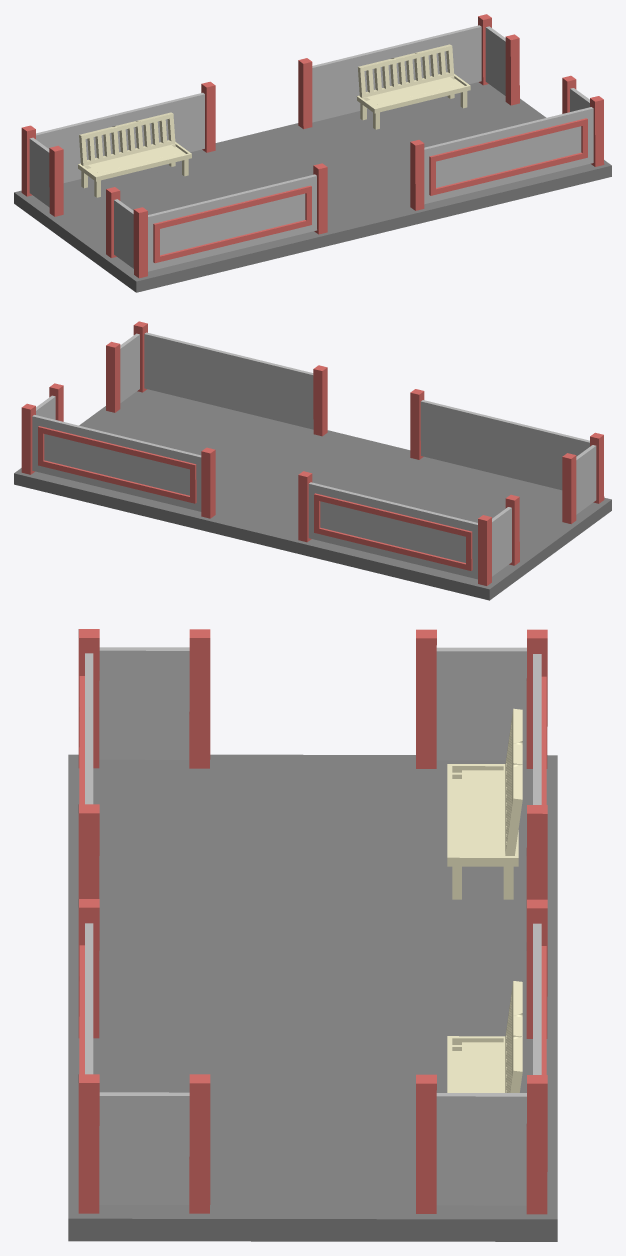
The model's file is coaster.glb.
3 renders of one model, top to bottom at view 1: azimuth 30°, elevation 25°; view 2: azimuth 150°, elevation 25°; view 3: azimuth 270°, elevation 25°, orthographic. The views are drawn at different scales.
Parts seen in each view (by area): view 1: Bank_0; view 2: Bank_0; view 3: Bank_0.
Boxes of the visible parts, x1,y1,x2,y2 form: Bank_0: (14,14,611,292); Bank_0: (14,321,611,600); Bank_0: (68,629,557,1241).
Size of the model in its own units: 12.77 by 1.97 by 5.69.
